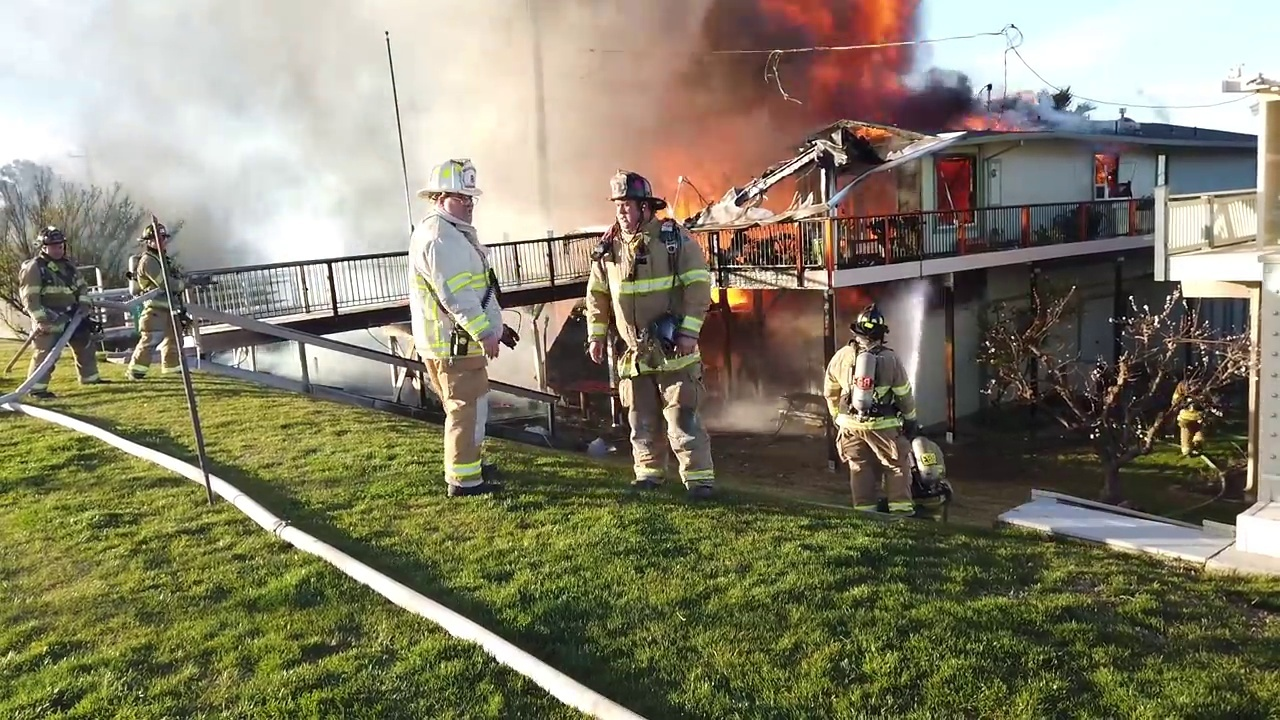fire: (708, 287, 749, 313), (963, 114, 1017, 130), (854, 119, 893, 139)
smoke: (1, 1, 645, 240), (645, 1, 976, 118), (308, 323, 411, 405), (742, 293, 823, 395), (706, 385, 821, 448), (497, 347, 544, 386), (258, 346, 300, 374)
